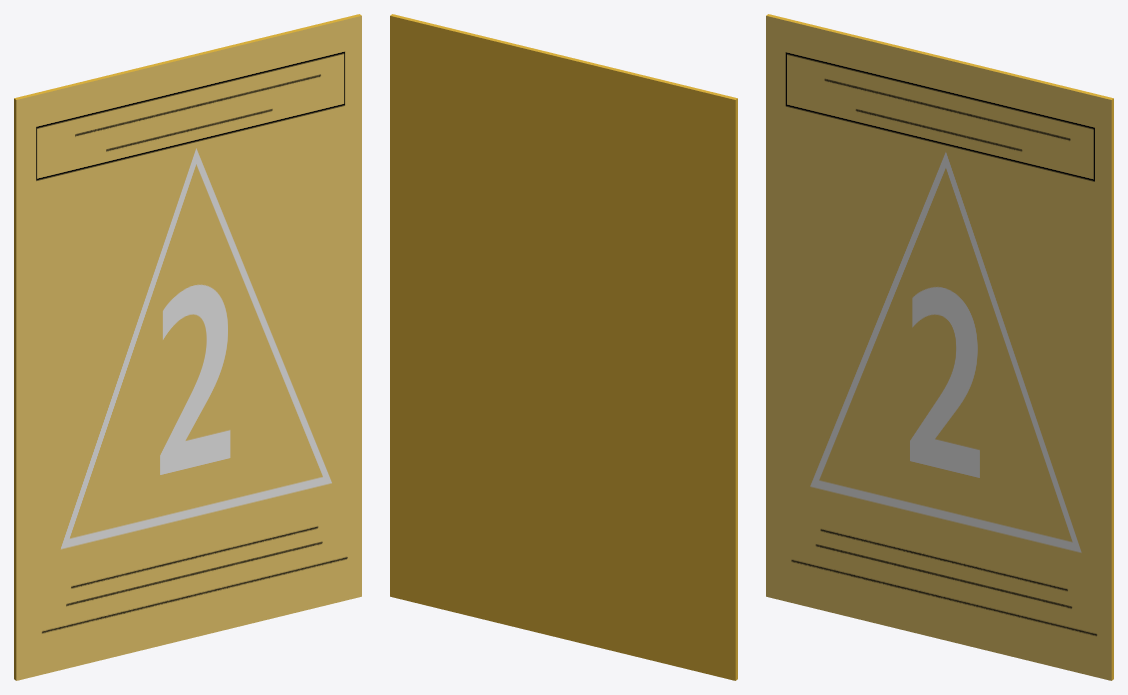
Rendered from YellowPoster.glb.
3 renders of one model, left to right at view 1: azimuth 30°, elevation 25°; view 2: azimuth 150°, elevation 25°; view 3: azimuth 330°, elevation 25°, orthographic.
Parts seen in each view (by area): view 1: Yellow_Poster; view 2: Yellow_Poster; view 3: Yellow_Poster.
Part boxes in pixels (x1=…): Yellow_Poster: x1=14, y1=14, x2=361, y2=680; Yellow_Poster: x1=390, y1=14, x2=737, y2=680; Yellow_Poster: x1=766, y1=14, x2=1113, y2=680.
Size of the model in its own units: 2.37 by 3.81 by 0.0288.
Materials: 1 (1 with a texture image).
